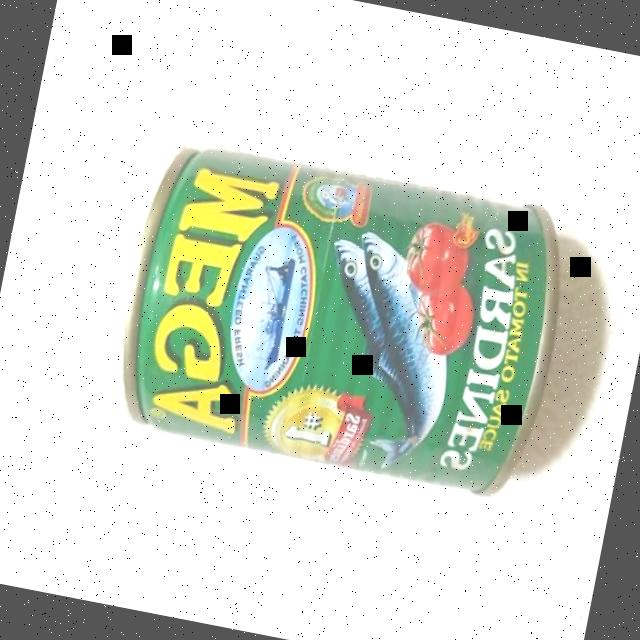can: (104, 132, 578, 504)
